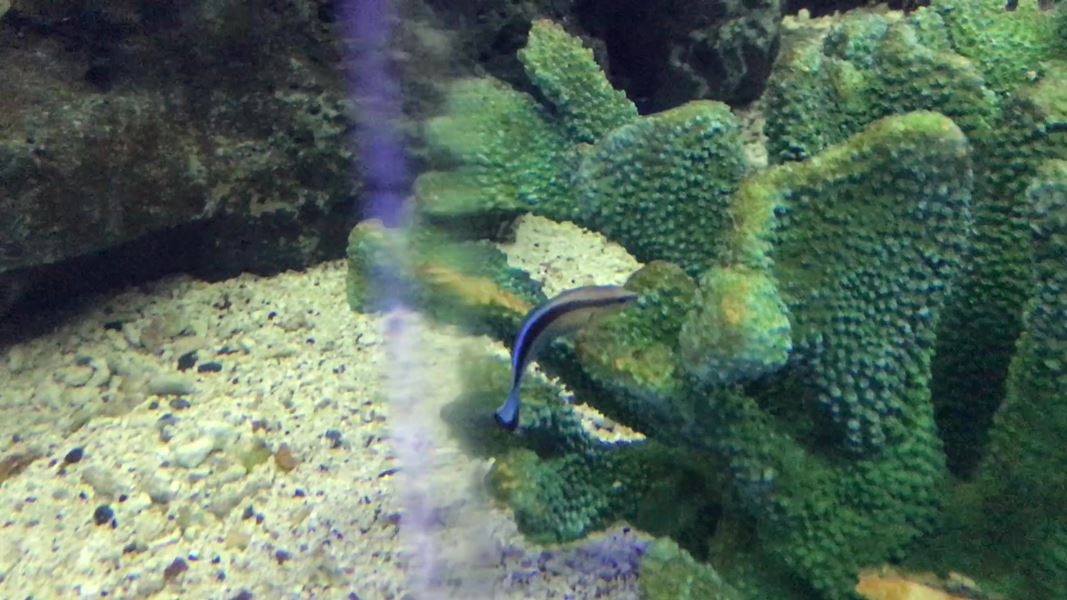Bluesteak cleaner wrasse: (484, 282, 649, 441)
